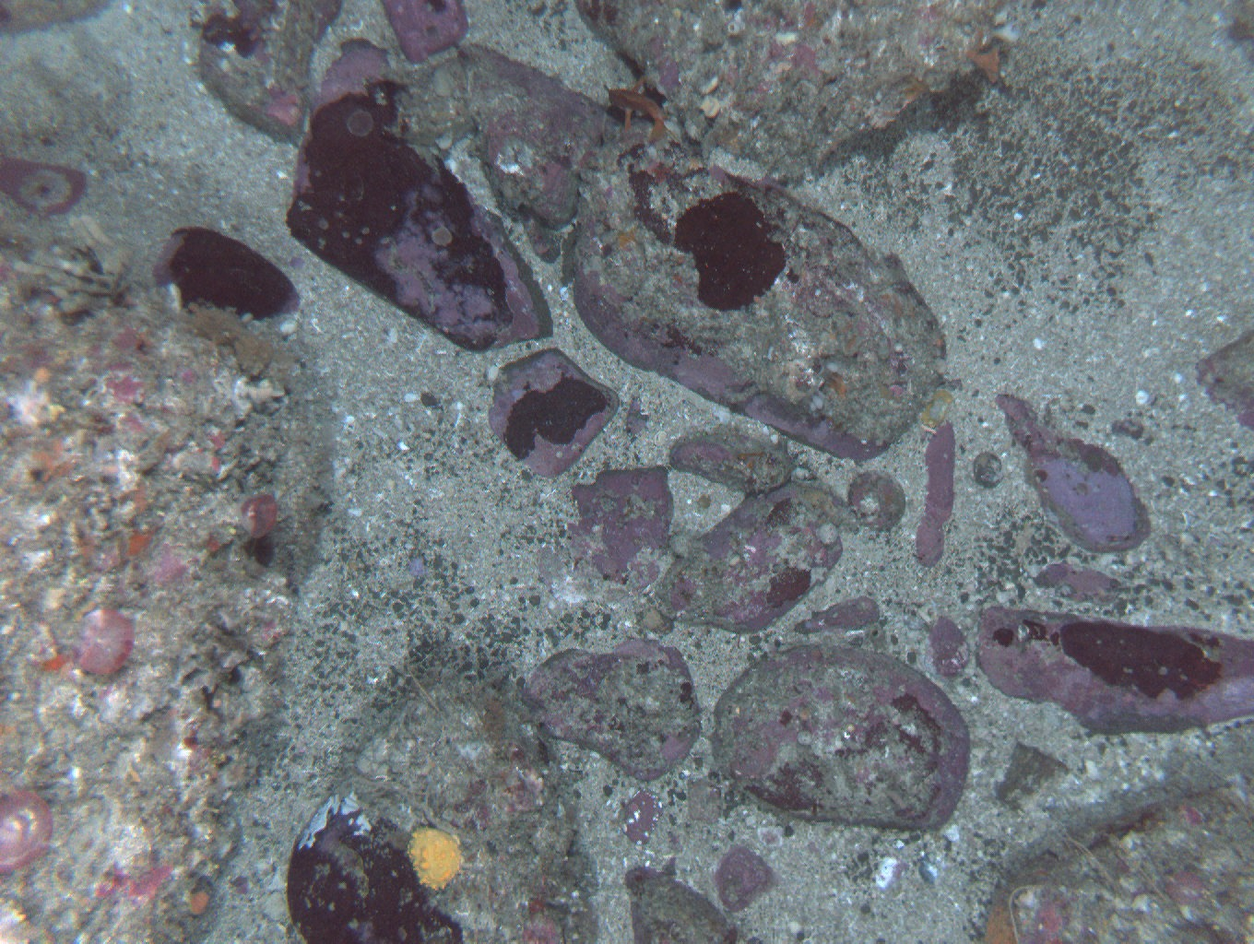Brachionichthyidae: (604, 74, 669, 140)
